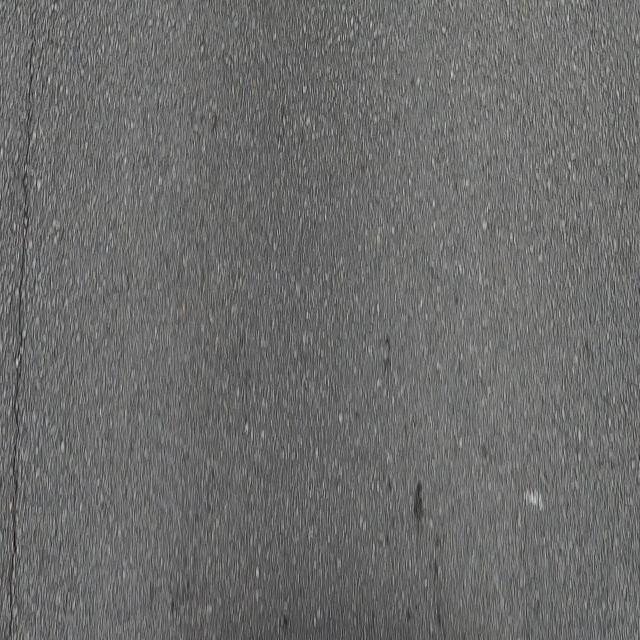Retak-Memanjang: (5, 13, 40, 640)
